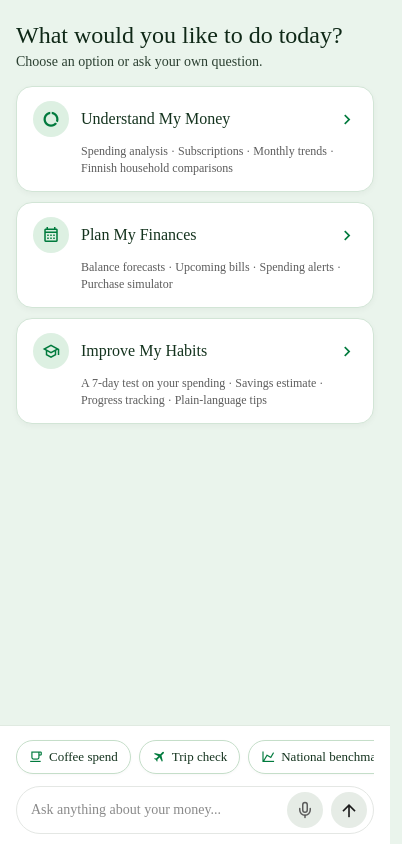
Test case: chat › a failed turn shows a friendly message and Retry resends it
The width and height of the screenshot is (402, 844).
Type "hi" into the field named "Message" at (155, 810), box [31,790,279,830]
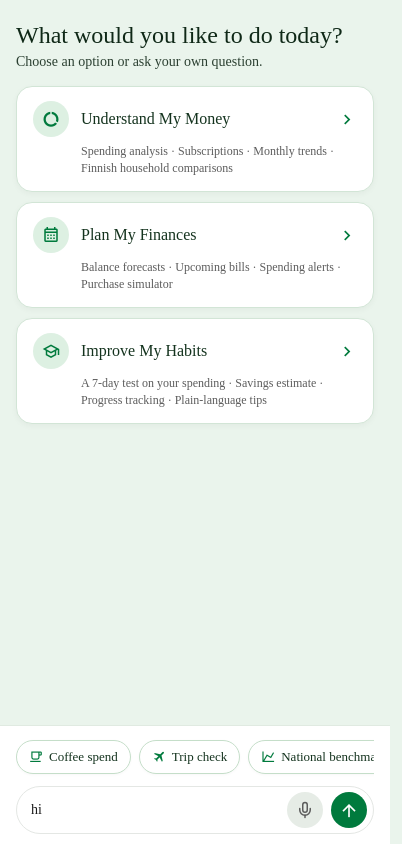
Click the button named "Send" at (349, 810), box [331,792,367,828]
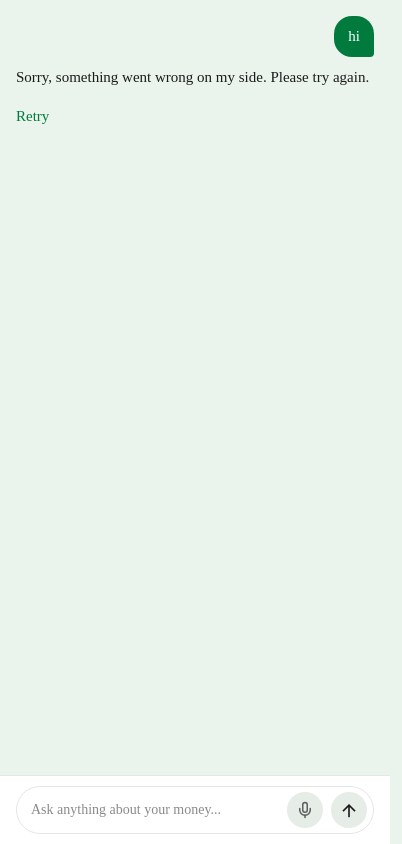
Expected: the text "Sorry, something went wrong on my side. Please try again." is shown, [16,69,374,86]
Click the button "Retry" at (33, 116), box [16,94,374,138]
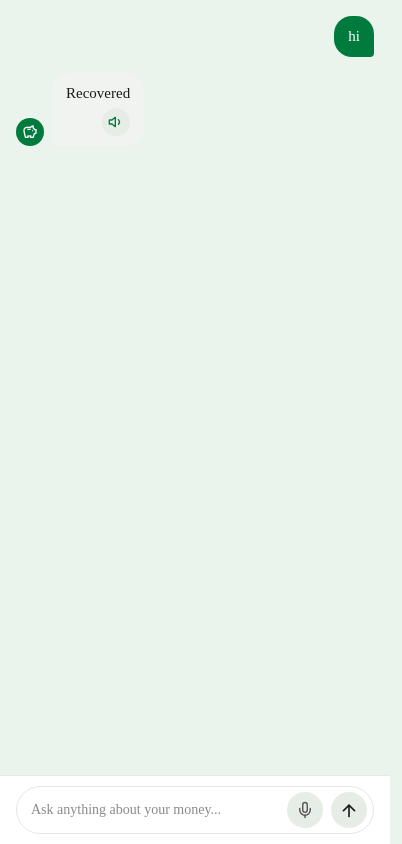
Expected: the text "Recovered" is shown, [66,83,130,104]
Expected: the text "something went wrong" is gone
